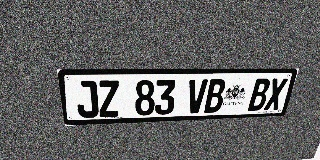3: (155, 80, 176, 115)
8: (135, 80, 156, 116)
B: (247, 78, 271, 111), (204, 79, 227, 113)
J: (74, 81, 99, 118)
V: (186, 79, 208, 114)
X: (264, 78, 288, 110)
Z: (97, 80, 120, 117)
